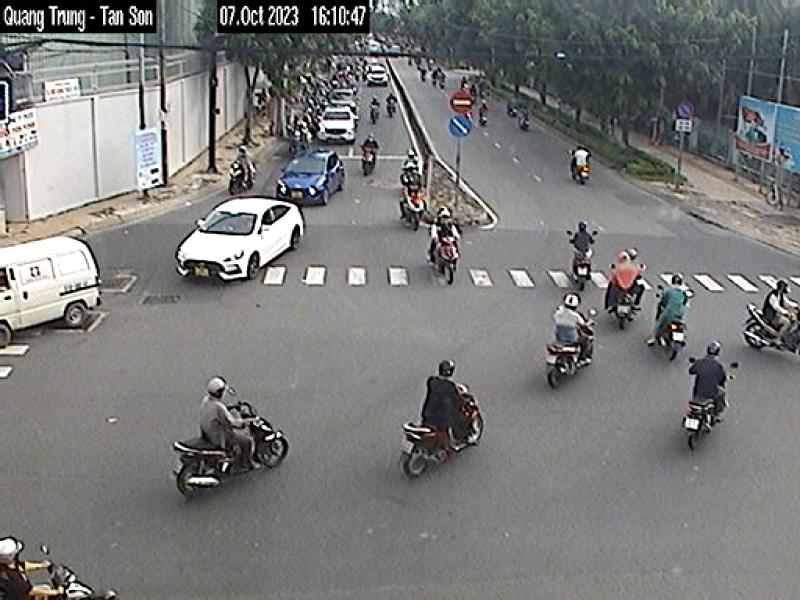car: (174, 188, 306, 298), (0, 230, 108, 348), (284, 144, 342, 209)
motorcycle: (162, 392, 300, 510), (399, 375, 497, 478), (533, 308, 611, 388)
